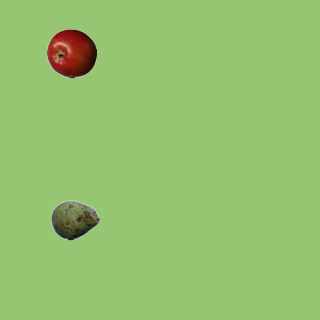Apple Braeburn: (46, 28, 96, 78)
Pear Stone: (50, 195, 100, 245)
